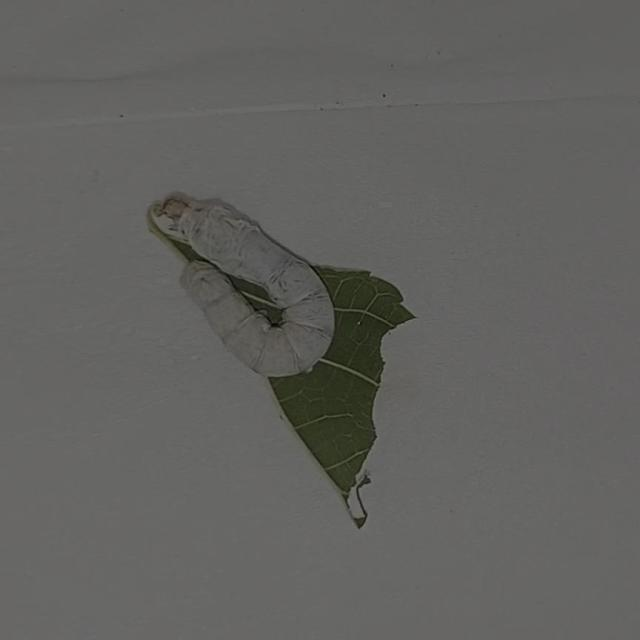Healthy: (160, 185, 338, 385)
